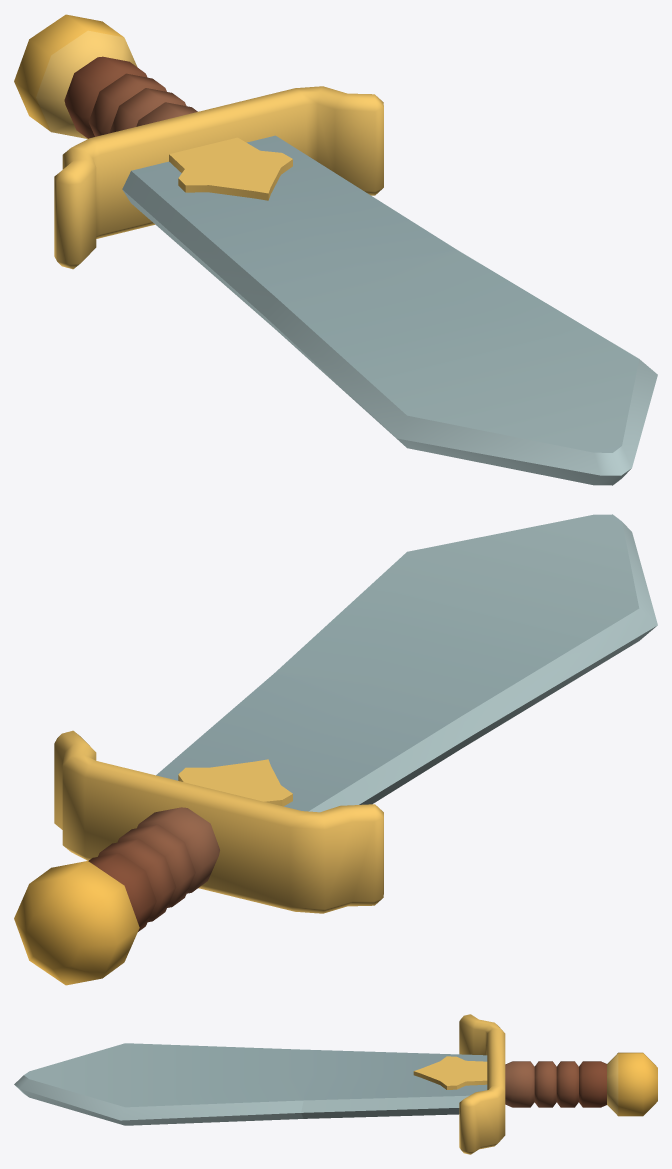
File: sword_02.fbx
3 views of the same model, one above another, from view 1: azimuth 30°, elevation 25°; view 2: azimuth 150°, elevation 25°; view 3: azimuth 270°, elevation 25° (orthographic). The views are drawn at different scales.
Visible parts, largest first — view 1: sword_02; view 2: sword_02; view 3: sword_02.
Boxes of the visible parts, x1,y1,x2,y2 form: sword_02: [14, 14, 657, 485]; sword_02: [14, 514, 657, 985]; sword_02: [14, 1014, 657, 1154].
Bounding box in the file's own units: 0.2814 × 0.0894 × 0.8489.
3 materials, 3 textured.
